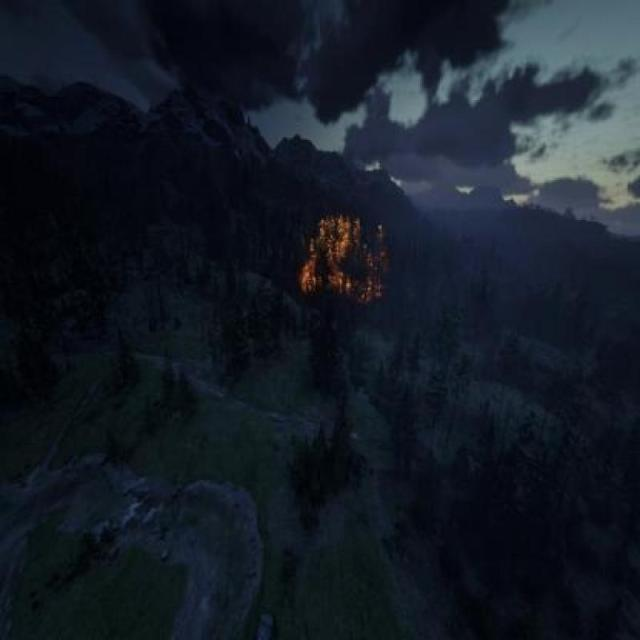Fire: (301, 202, 394, 312)
